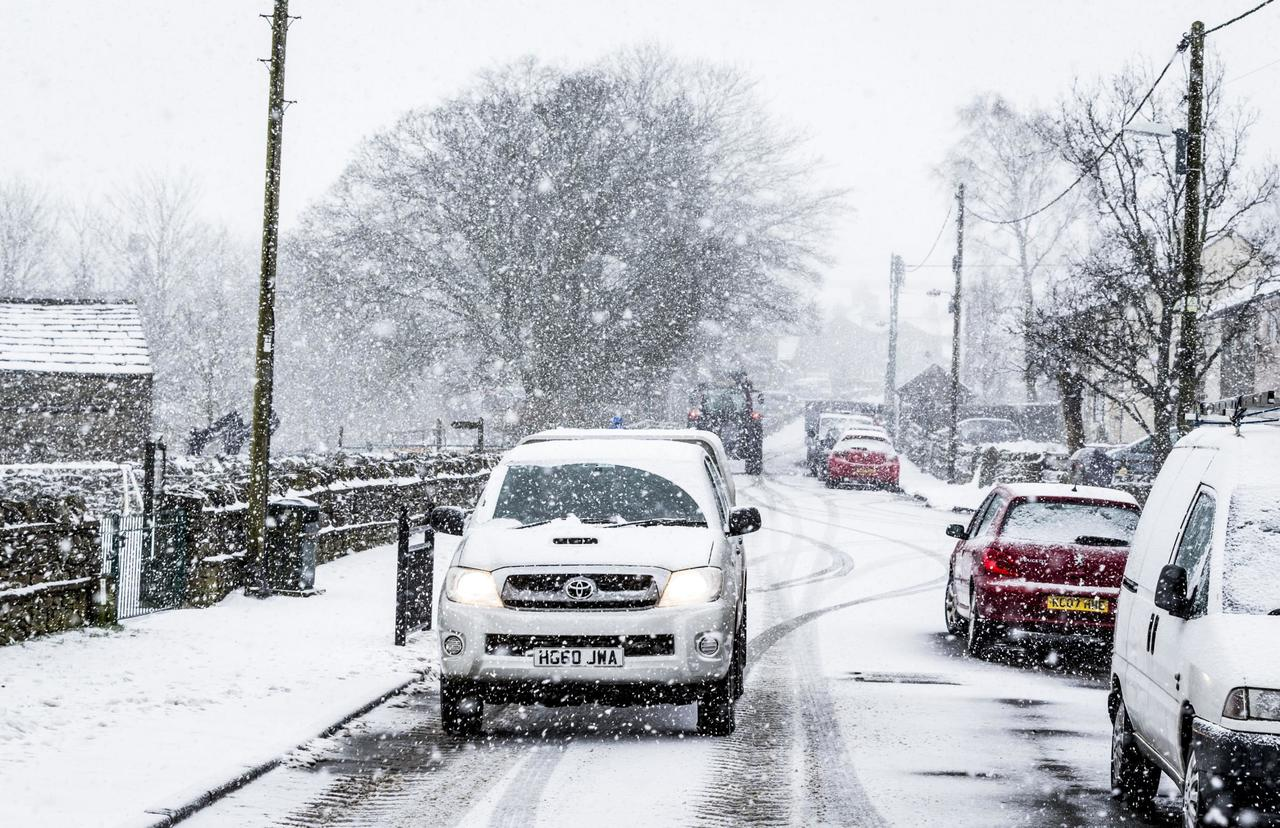car: (443, 430, 747, 737), (1105, 407, 1278, 827), (942, 477, 1136, 670), (1098, 416, 1180, 478), (823, 431, 903, 491), (935, 416, 1025, 448)
truck: (682, 363, 766, 471)
